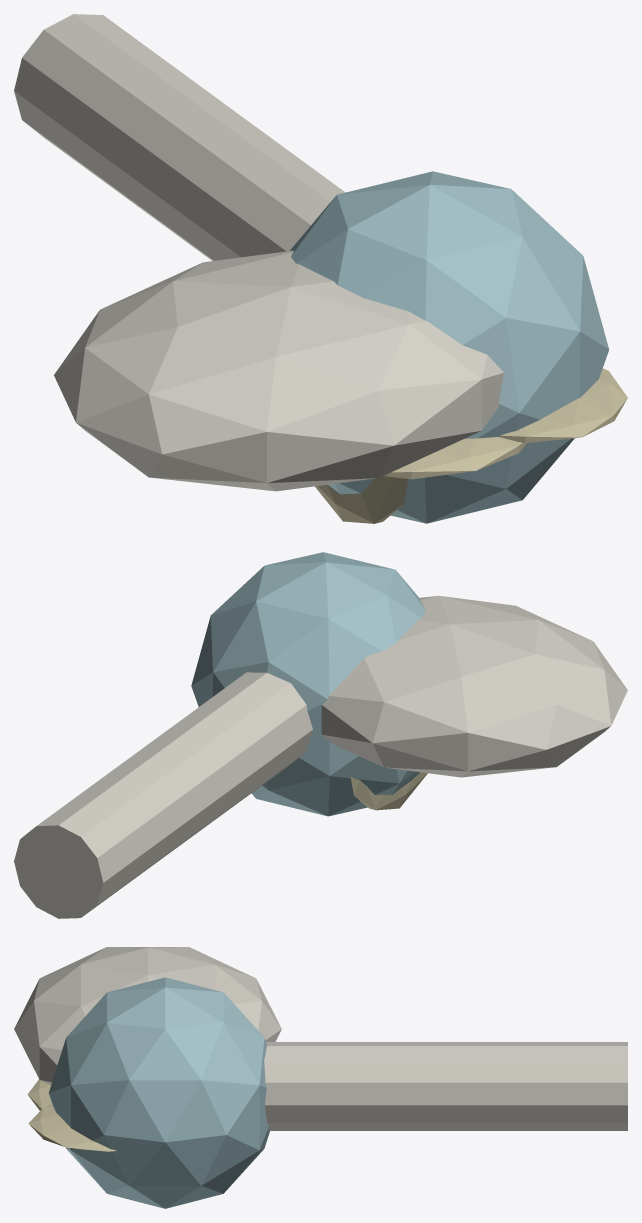
Rendered from shoulder-low.glb.
3 views of the same model, one above another, from view 1: azimuth 30°, elevation 25°; view 2: azimuth 150°, elevation 25°; view 3: azimuth 270°, elevation 25° (orthographic). The views are drawn at different scales.
Parts seen in each view (by area): view 1: scapula_proxy, shoulder_cartilage_proxy, humerus, biceps_tendon_proxy, shoulder_ligament_proxy, glenoid_labrum_proxy; view 2: scapula_proxy, humerus, shoulder_cartilage_proxy, glenoid_labrum_proxy; view 3: shoulder_cartilage_proxy, humerus, scapula_proxy, biceps_tendon_proxy, shoulder_ligament_proxy.
Part boxes in pixels (bbox=[...]): scapula_proxy: bbox=[54, 250, 503, 491]; shoulder_cartilage_proxy: bbox=[290, 171, 609, 523]; humerus: bbox=[14, 14, 345, 260]; biceps_tendon_proxy: bbox=[499, 368, 627, 442]; shoulder_ligament_proxy: bbox=[384, 437, 526, 479]; glenoid_labrum_proxy: bbox=[315, 476, 408, 523]; scapula_proxy: bbox=[321, 595, 627, 777]; humerus: bbox=[14, 672, 312, 918]; shoulder_cartilage_proxy: bbox=[191, 552, 425, 816]; glenoid_labrum_proxy: bbox=[346, 750, 427, 810]; shoulder_cartilage_proxy: bbox=[49, 977, 269, 1208]; humerus: bbox=[264, 1042, 627, 1130]; scapula_proxy: bbox=[14, 947, 281, 1084]; biceps_tendon_proxy: bbox=[28, 1104, 116, 1151]; shoulder_ligament_proxy: bbox=[27, 1079, 51, 1110].
Bounding box in the file's own units: 1.58 × 0.94 × 2.48.
